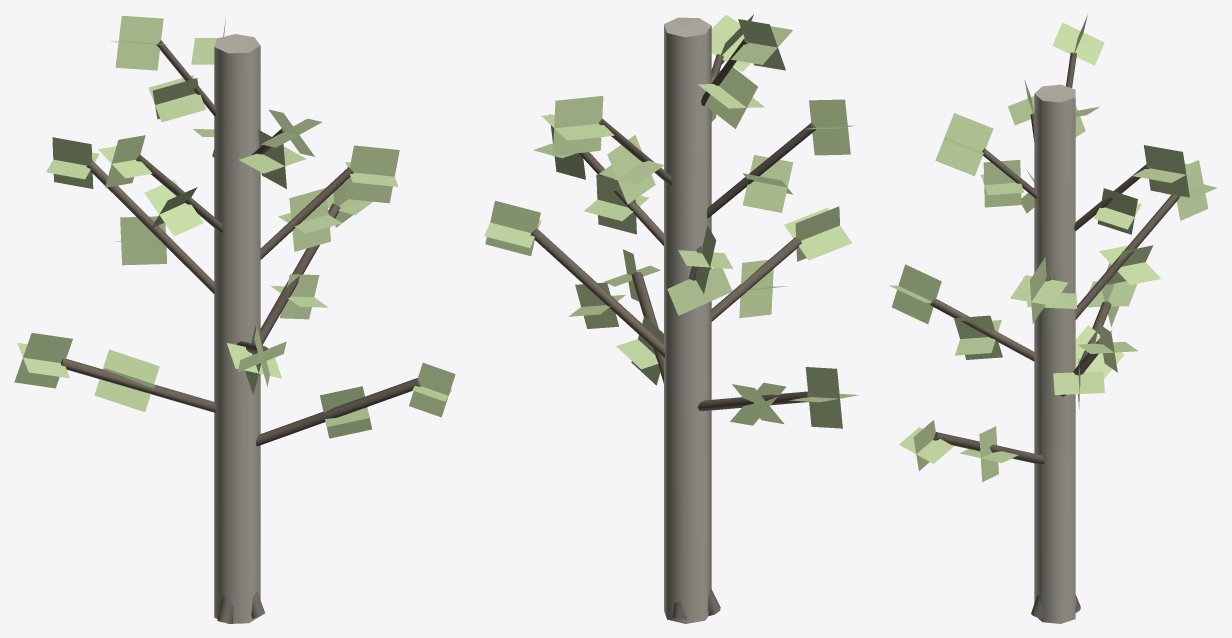
Rendered from standard-lod2.glb.
3 views of the same model, side by side, from view 1: azimuth 30°, elevation 25°; view 2: azimuth 150°, elevation 25°; view 3: azimuth 270°, elevation 25° (orthographic). The views are drawn at different scales.
Parts seen in each view (by area): view 1: birch-bark-branches-buried-roots-ground-blend, birch-leaf-sprays; view 2: birch-bark-branches-buried-roots-ground-blend, birch-leaf-sprays; view 3: birch-bark-branches-buried-roots-ground-blend, birch-leaf-sprays.
Boxes of the visible parts, x1,y1,x2,y2 form: birch-bark-branches-buried-roots-ground-blend: [61, 34, 420, 623]; birch-leaf-sprays: [14, 15, 455, 438]; birch-bark-branches-buried-roots-ground-blend: [530, 17, 816, 623]; birch-leaf-sprays: [484, 14, 858, 428]; birch-bark-branches-buried-roots-ground-blend: [930, 52, 1180, 623]; birch-leaf-sprays: [889, 14, 1217, 481].
Bounding box in the file's own units: 10.4 × 17.1 × 9.14.
